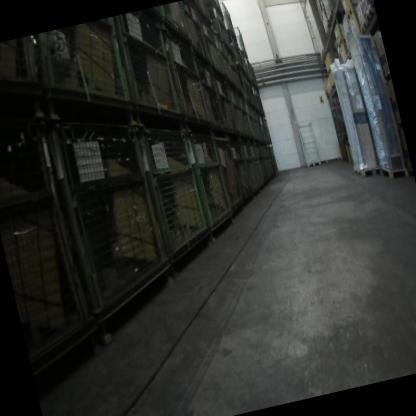pallet: (378, 160, 410, 188), (352, 159, 383, 185), (319, 45, 337, 63), (345, 3, 362, 21), (364, 6, 377, 29), (357, 19, 371, 38), (324, 26, 332, 39)
stillage: (43, 107, 189, 353), (0, 103, 100, 379), (137, 114, 218, 268), (27, 18, 134, 128), (110, 8, 183, 125), (186, 125, 237, 239), (159, 26, 212, 135), (210, 28, 248, 143), (0, 36, 49, 117), (212, 130, 250, 225), (195, 54, 229, 141), (212, 73, 239, 143), (192, 0, 238, 41), (182, 2, 209, 64), (228, 141, 254, 205), (160, 2, 192, 46), (199, 21, 224, 76), (239, 143, 261, 198), (235, 94, 256, 145), (227, 53, 244, 100), (229, 21, 248, 59), (249, 146, 264, 186)
